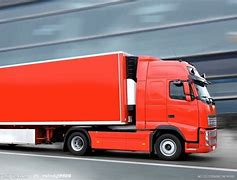bigtruck: (1, 51, 218, 161)
